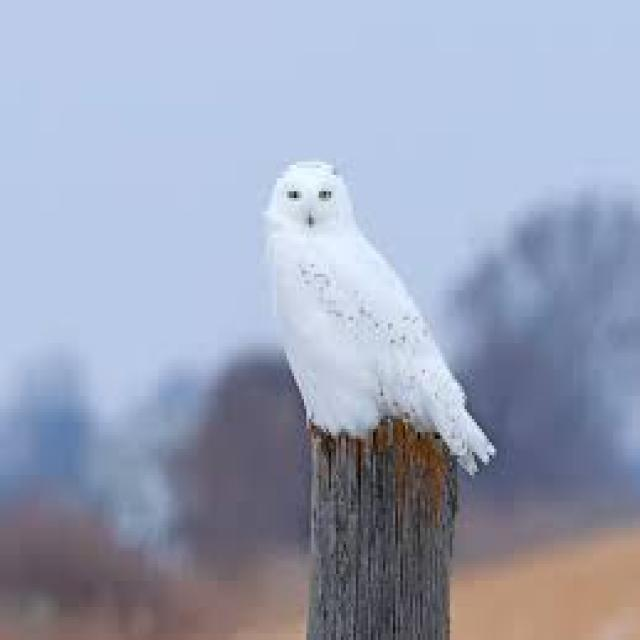snowy owl: (222, 87, 508, 526)
